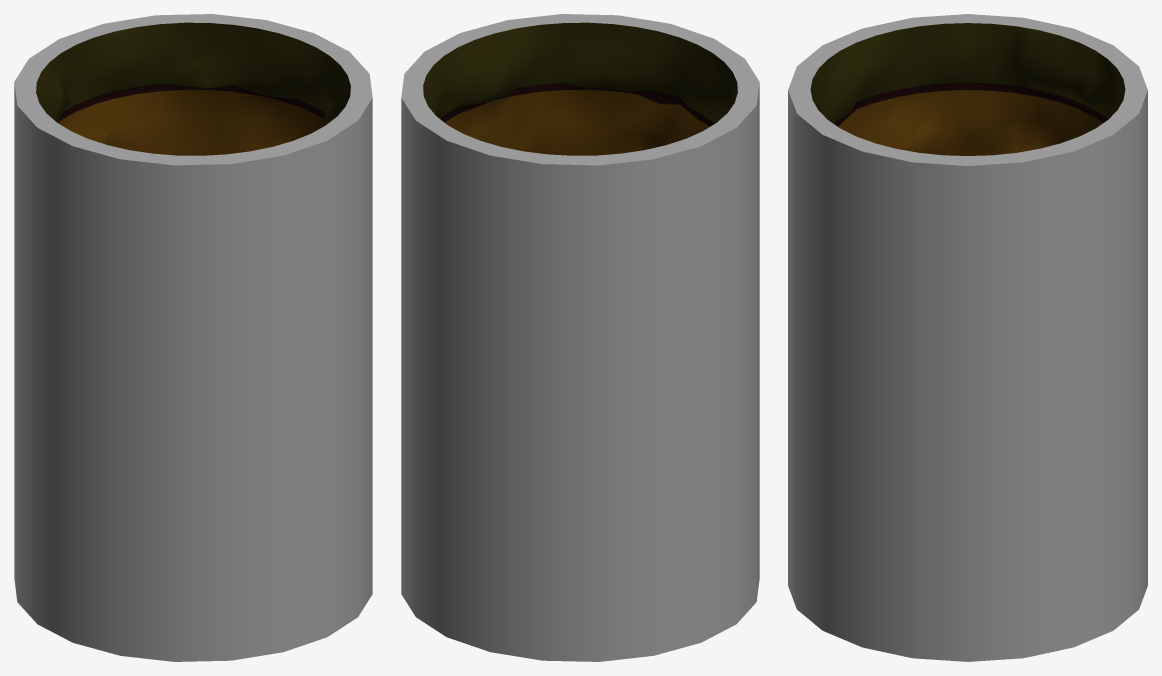
Rendered from Hole.fbx.
The picture shows the model from 3 angles, left to right: view 1: azimuth 30°, elevation 25°; view 2: azimuth 150°, elevation 25°; view 3: azimuth 270°, elevation 25°; orthographic projection.
Visible parts, largest first — view 1: Occluder, Structure; view 2: Occluder, Structure; view 3: Occluder, Structure.
Part boxes in pixels (<box>): Occluder: <box>14,14,372,661</box>; Structure: <box>20,16,366,162</box>; Occluder: <box>401,14,759,661</box>; Structure: <box>407,16,753,162</box>; Occluder: <box>788,14,1147,661</box>; Structure: <box>795,16,1140,162</box>.
Bounding box in the file's own units: 8 × 12.18 × 8.
